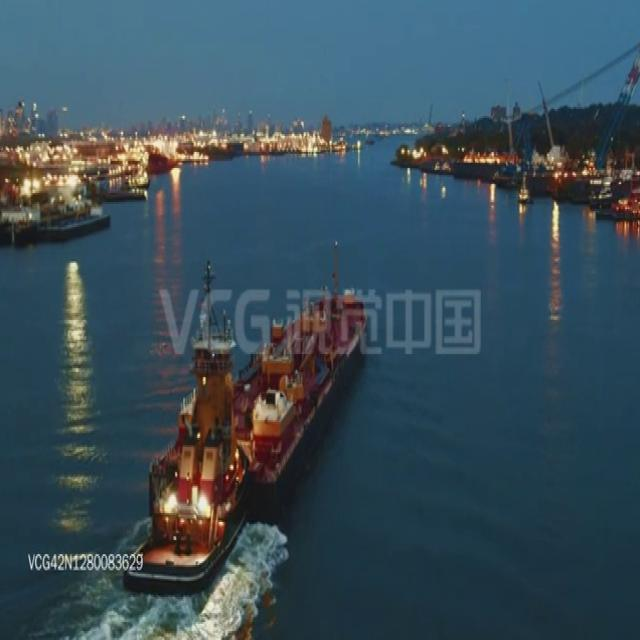cargoship: (130, 276, 365, 588)
